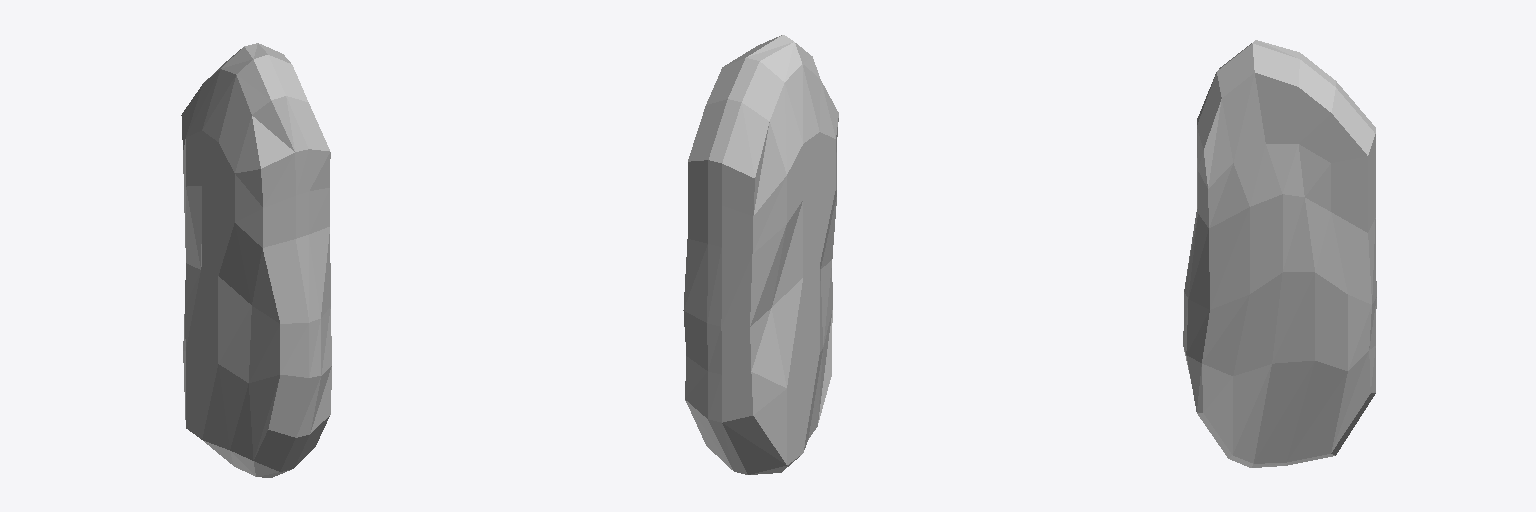
File: monolith_05.obj
The picture shows the model from 3 angles: view 1: azimuth 30°, elevation 25°; view 2: azimuth 150°, elevation 25°; view 3: azimuth 270°, elevation 25°; orthographic projection.
Visible parts, largest first — view 1: Cube_Cube; view 2: Cube_Cube; view 3: Cube_Cube.
Part boxes in pixels (x1,y1,x2,y2): Cube_Cube: (181,43,331,477); Cube_Cube: (683,35,838,474); Cube_Cube: (1183,40,1376,467).
Bounding box in the file's own units: 126 × 572 × 237.